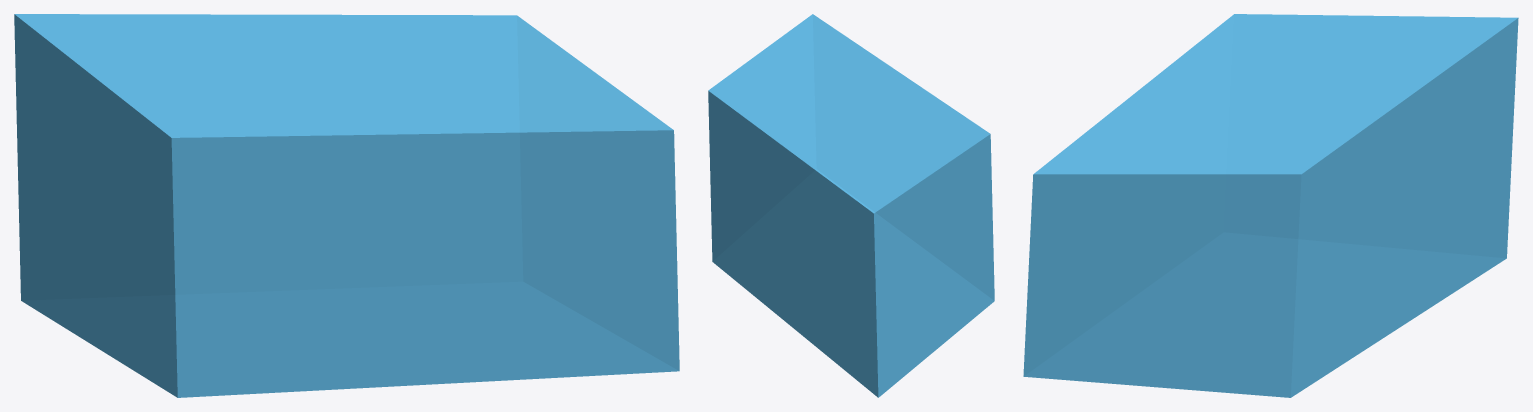
Rendered from Event_421364160_HErechit_52.fbx.
3 views of the same model, side by side, from view 1: azimuth 30°, elevation 25°; view 2: azimuth 150°, elevation 25°; view 3: azimuth 270°, elevation 25° (orthographic). The views are drawn at different scales.
Visible parts, largest first — view 1: Model; view 2: Model; view 3: Model.
Part boxes in pixels (x1=…): Model: x1=14, y1=14, x2=679, y2=397; Model: x1=708, y1=14, x2=994, y2=397; Model: x1=1023, y1=14, x2=1518, y2=397.
Bounding box in the file's own units: 0.8348 × 0.5843 × 1.09.
